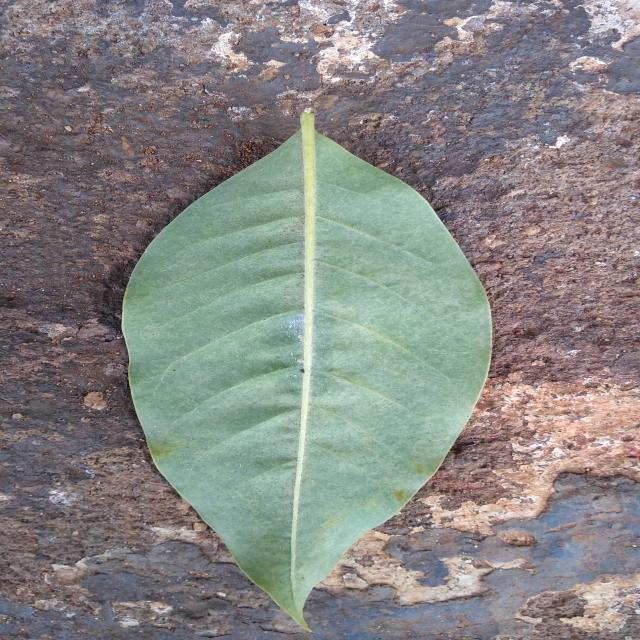sampige: (122, 111, 491, 628)
